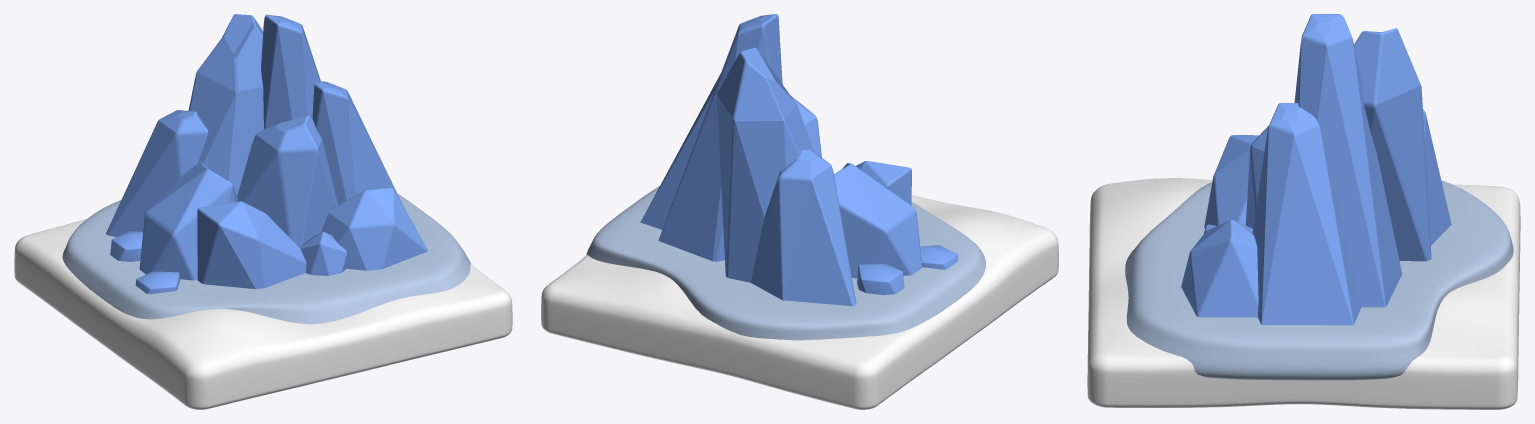
Rendered from Iceberg.glb.
3 renders of one model, left to right at view 1: azimuth 30°, elevation 25°; view 2: azimuth 150°, elevation 25°; view 3: azimuth 270°, elevation 25°, orthographic. The views are drawn at different scales.
Visible parts, largest first — view 1: Merged_0, Plane060, Plane076; view 2: Merged_0, Plane060, Plane076; view 3: Merged_0, Plane060, Plane076.
Boxes of the visible parts, x1,y1,x2,y2 form: Merged_0: [106, 14, 427, 294]; Plane060: [14, 219, 512, 409]; Plane076: [62, 193, 470, 324]; Merged_0: [640, 14, 958, 306]; Plane060: [541, 173, 1058, 409]; Plane076: [586, 186, 985, 340]; Merged_0: [1181, 14, 1451, 325]; Plane060: [1087, 178, 1520, 409]; Plane076: [1125, 180, 1513, 380].
Size of the model in its own units: 1 by 0.7952 by 0.9827.
